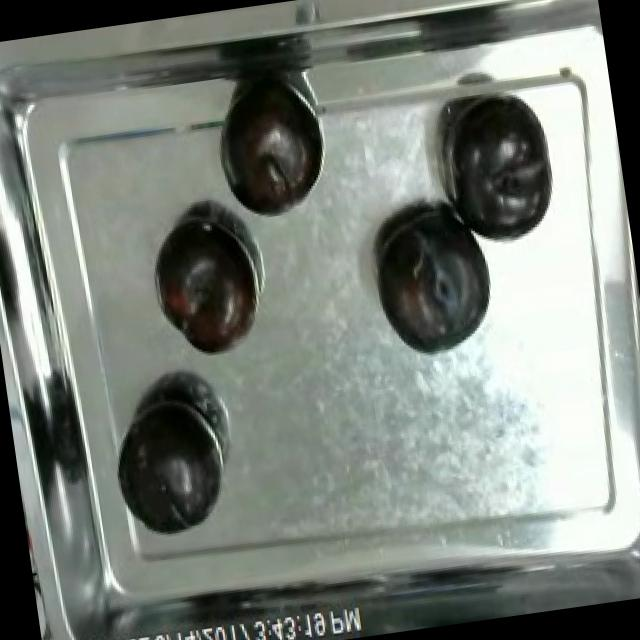Fruit: (361, 192, 506, 369), (430, 83, 564, 249), (106, 385, 237, 545), (145, 210, 266, 369), (214, 98, 331, 227)
